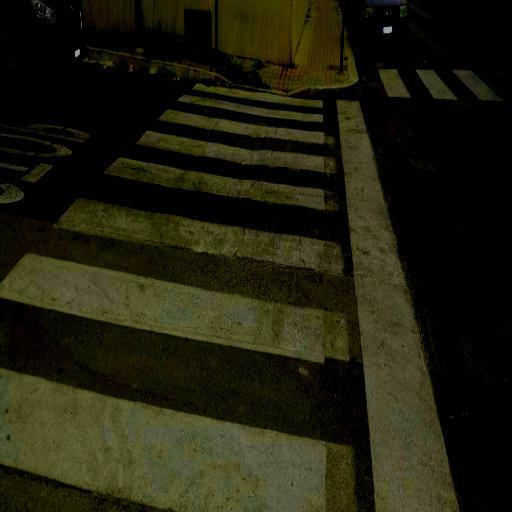crosswalk: (46, 150, 336, 270), (176, 74, 328, 128)
